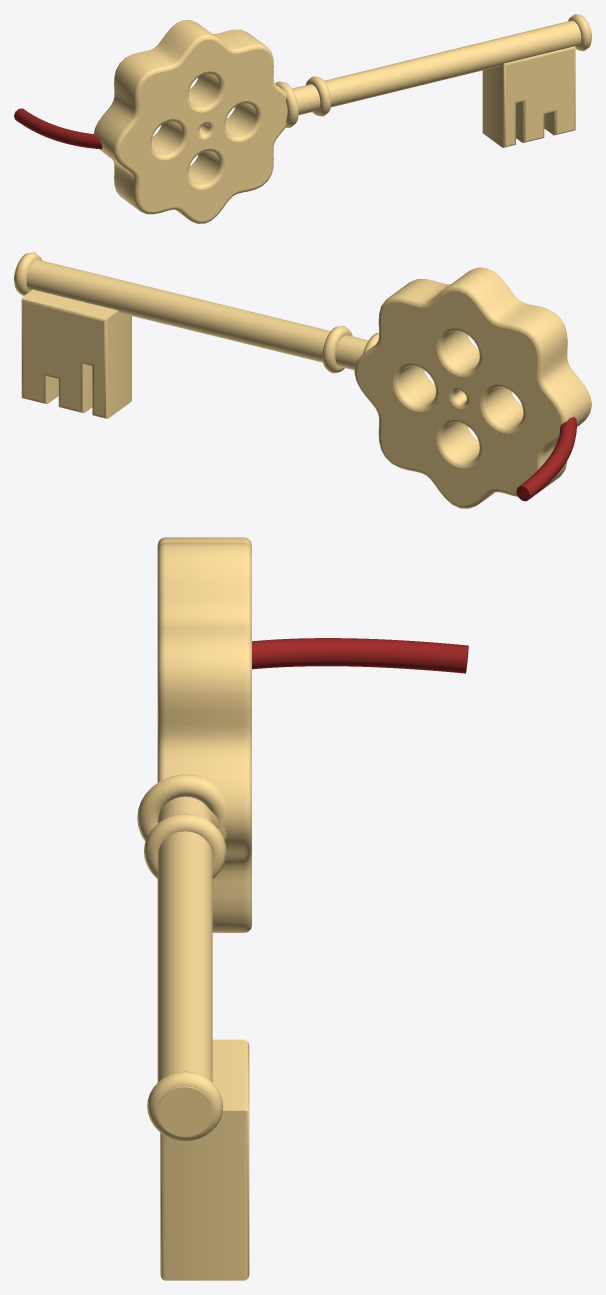
File: key.glb
3 renders of one model, top to bottom at view 1: azimuth 30°, elevation 25°; view 2: azimuth 150°, elevation 25°; view 3: azimuth 270°, elevation 25°, orthographic. The views are drawn at different scales.
Parts seen in each view (by area): view 1: bow, shaft, bit, ribbon, collar.001, collar, collar.002; view 2: bow, bit, shaft, ribbon, collar.001, collar.002; view 3: bow, shaft, bit, ribbon, collar, collar.001, collar.002.
Part boxes in pixels (x1,y1,x2,y2): bow: (94, 20, 287, 223); shaft: (292, 20, 591, 115); bit: (482, 46, 575, 147); ribbon: (14, 108, 102, 149); collar.001: (305, 76, 331, 116); collar: (275, 81, 298, 127); collar.002: (568, 14, 591, 51); bow: (354, 267, 591, 508); bit: (21, 289, 131, 418); shaft: (14, 259, 368, 370); ribbon: (516, 417, 576, 501); collar.001: (322, 325, 352, 373); collar.002: (14, 252, 42, 295); bow: (157, 537, 251, 932); shaft: (157, 796, 212, 1136); bit: (160, 1039, 249, 1280); ribbon: (252, 638, 468, 673); collar: (137, 774, 226, 841); collar.001: (144, 813, 226, 878); collar.002: (147, 1071, 223, 1141).
Bounding box in the file's own units: 1.76 × 0.6345 × 0.5052.
